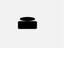human: (16, 13, 40, 33)
